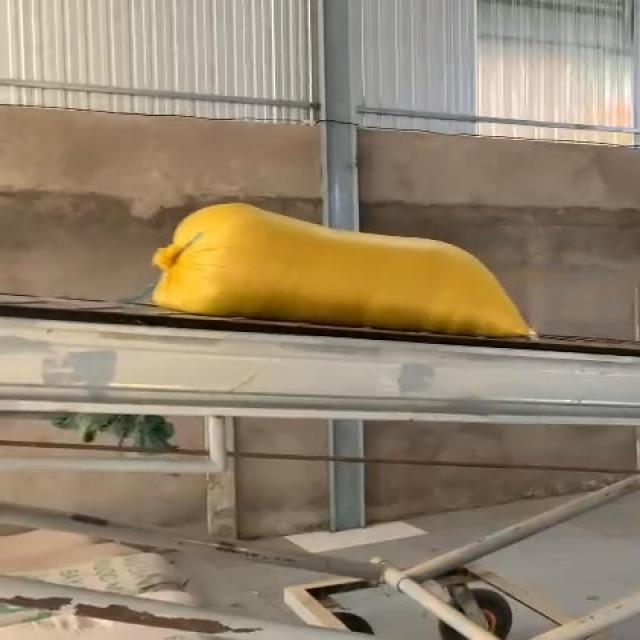gunny_bag: (152, 203, 531, 337)
